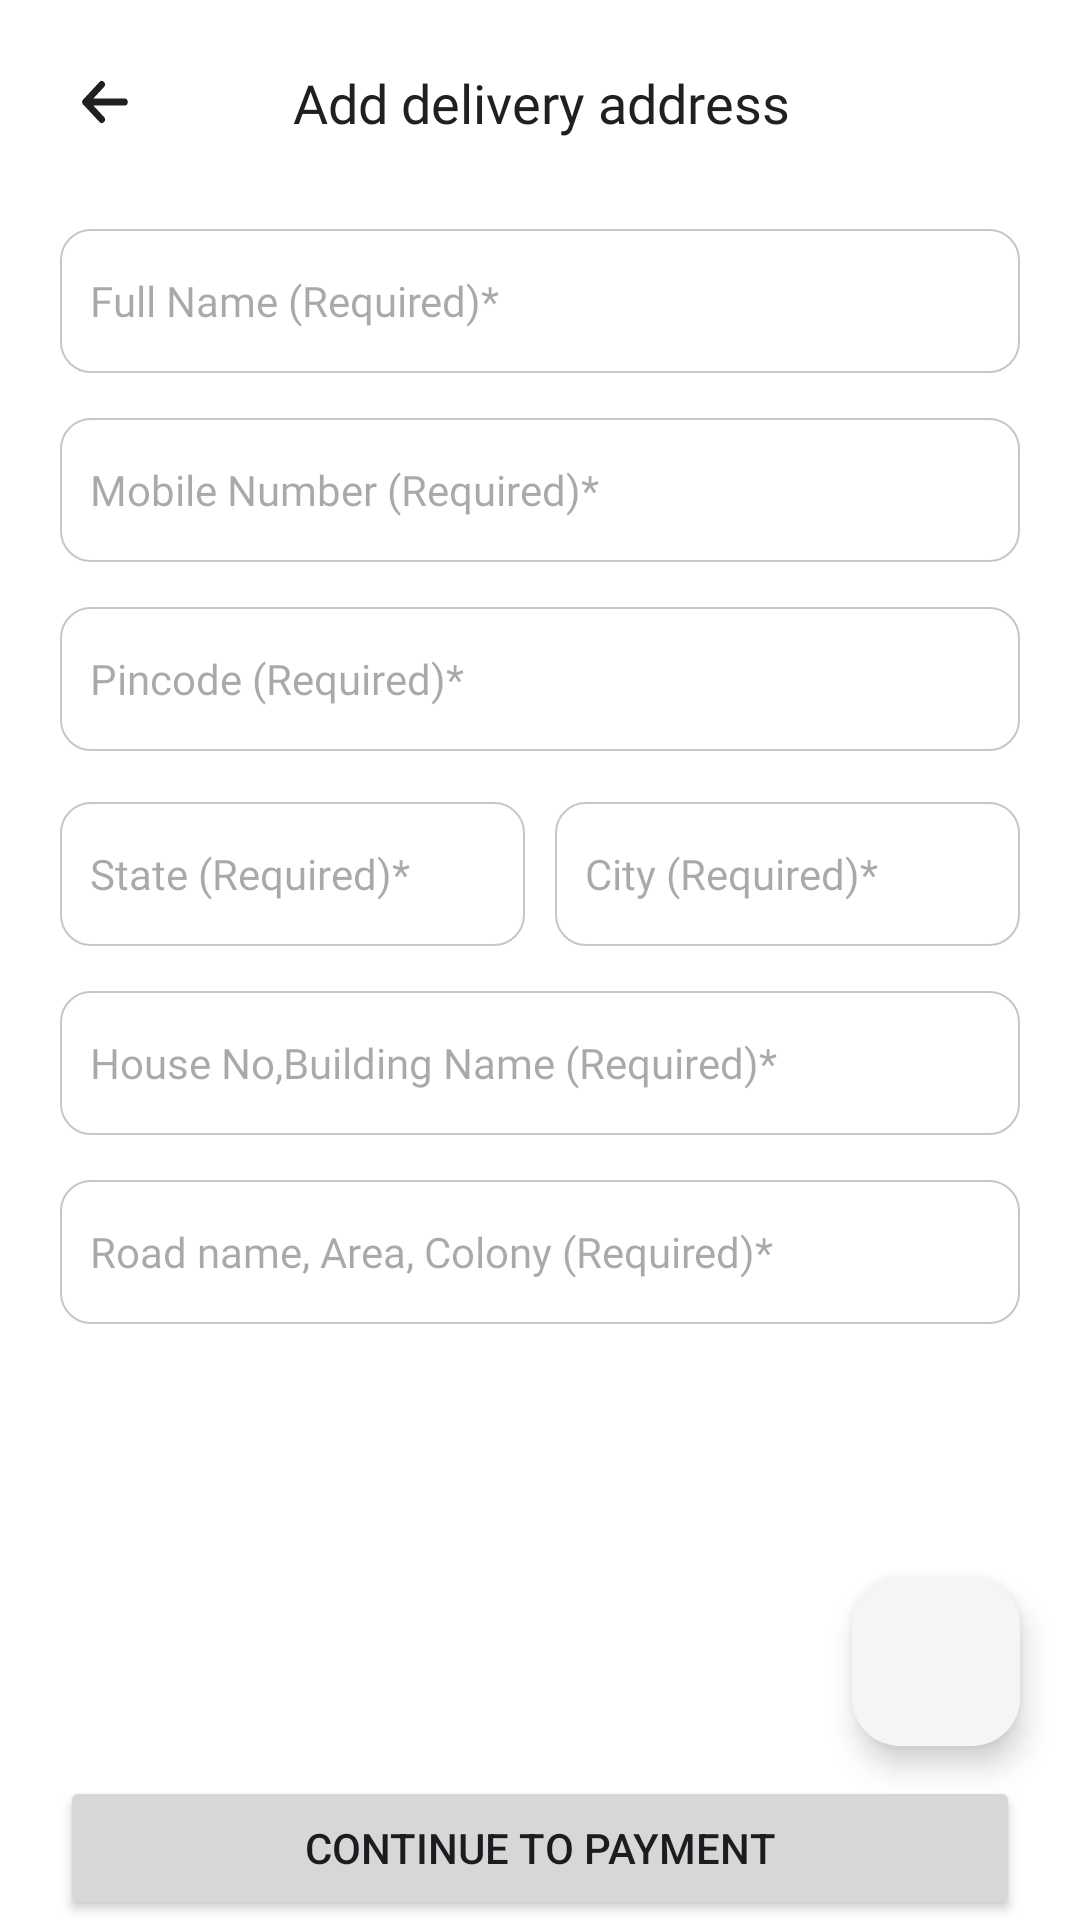

Icon click points for this 1080px×1920px phone screenshot, format (x=x, y=y):
arrow: (x=105, y=102)
